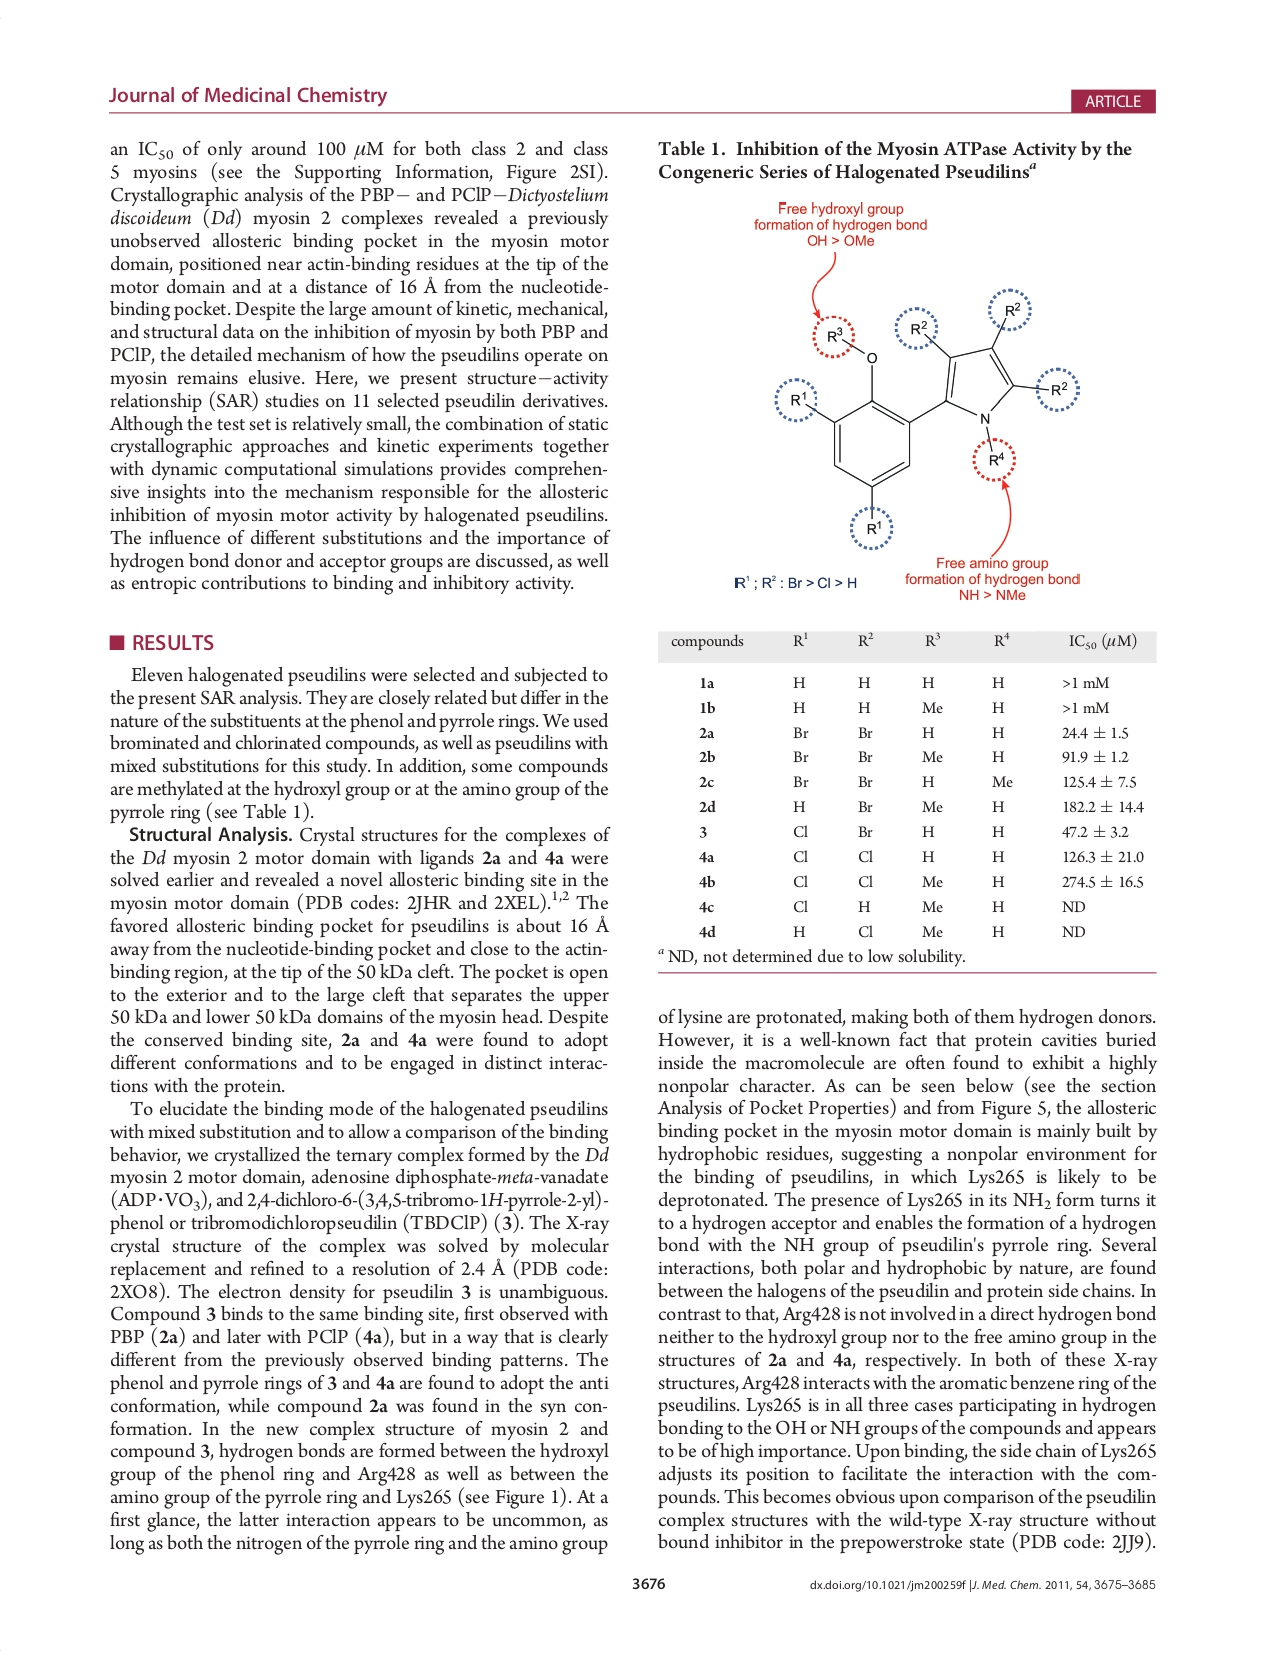exist_molecular: (789, 301, 1071, 539)
